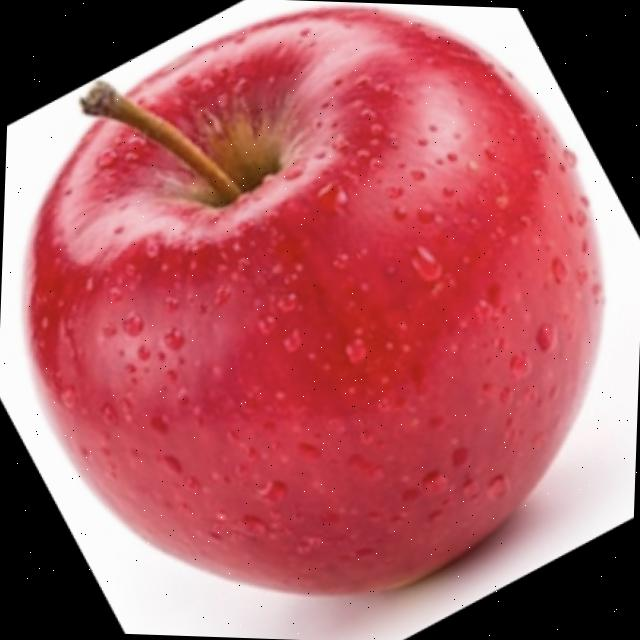Ripe: (4, 0, 621, 609)
